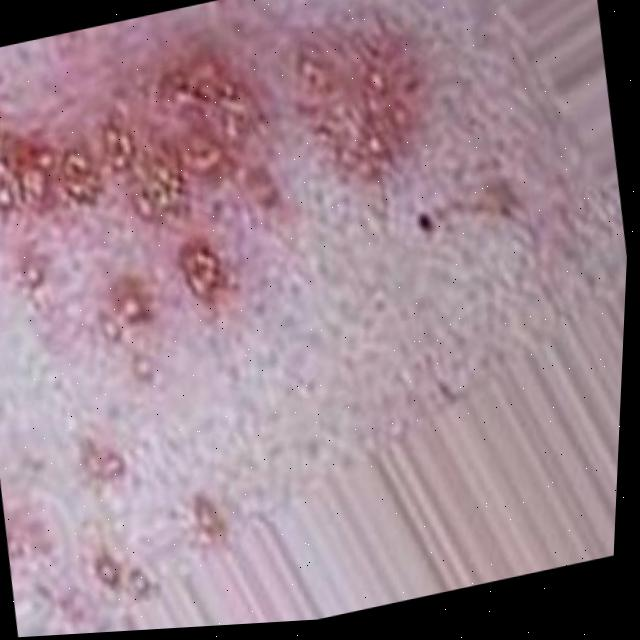Shingles: (0, 13, 294, 362), (272, 13, 443, 211)
